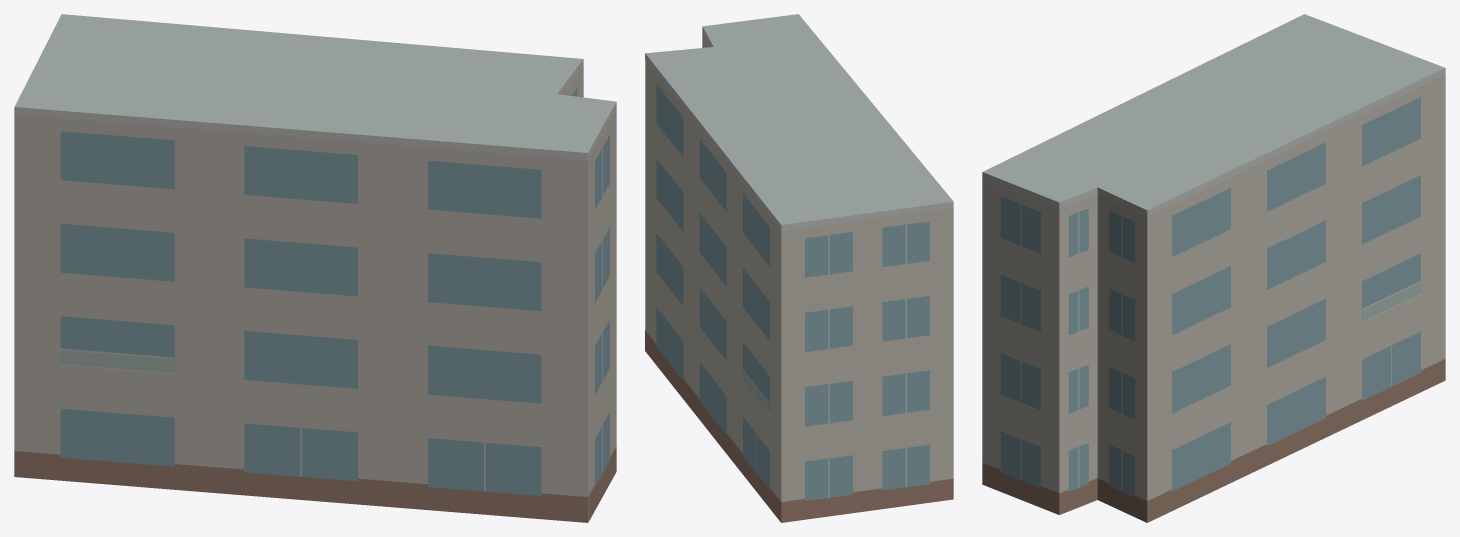
Rendered from survey-upis-32682627.glb.
3 renders of one model, left to right at view 1: azimuth 30°, elevation 25°; view 2: azimuth 150°, elevation 25°; view 3: azimuth 270°, elevation 25°, orthographic. The views are drawn at different scales.
Parts seen in each view (by area): view 1: survey-upis-32682627.tmp; view 2: survey-upis-32682627.tmp; view 3: survey-upis-32682627.tmp.
Boxes of the visible parts, x1,y1,x2,y2 form: survey-upis-32682627.tmp: [14, 14, 616, 522]; survey-upis-32682627.tmp: [645, 14, 953, 522]; survey-upis-32682627.tmp: [982, 14, 1445, 522].
Size of the model in its own units: 16.44 by 12.2 by 16.39.
